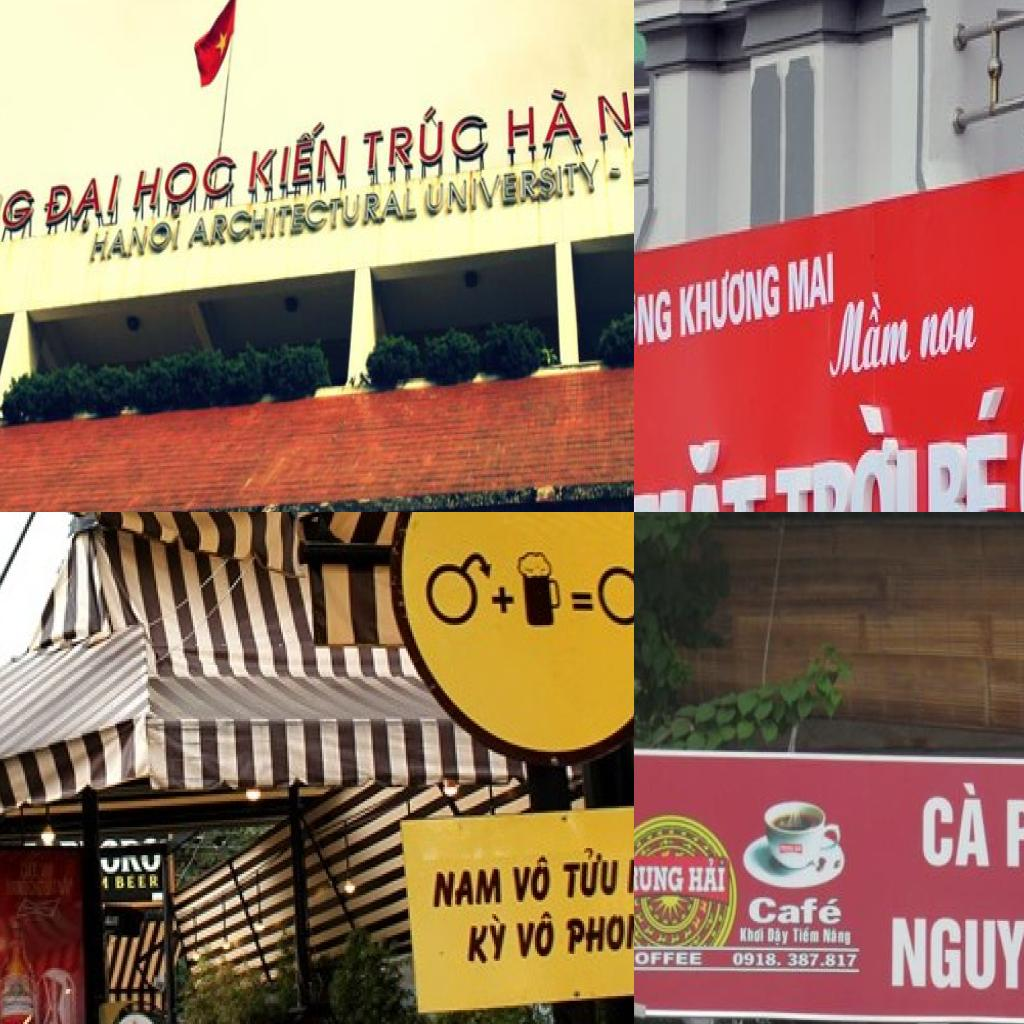text: (772, 399, 915, 512), (184, 184, 419, 252), (424, 157, 605, 221), (892, 905, 1024, 991), (634, 429, 766, 512), (927, 382, 1007, 512), (359, 100, 492, 164), (681, 259, 783, 342), (825, 290, 916, 382), (247, 116, 352, 194), (130, 152, 238, 223), (921, 781, 992, 870), (504, 85, 588, 156), (38, 175, 125, 237), (88, 218, 181, 263), (917, 302, 978, 367), (634, 274, 675, 362), (593, 67, 634, 150), (565, 909, 634, 956), (786, 249, 834, 315), (564, 846, 621, 900), (0, 171, 36, 254), (433, 867, 504, 909), (748, 899, 844, 926), (468, 914, 510, 968), (510, 855, 554, 905), (516, 909, 558, 961), (732, 952, 859, 968), (634, 866, 686, 895), (687, 858, 727, 894), (634, 951, 702, 967), (490, 588, 518, 616), (115, 874, 160, 890), (570, 590, 596, 616), (766, 926, 790, 948), (822, 928, 851, 946), (738, 926, 766, 943), (792, 926, 820, 943)
